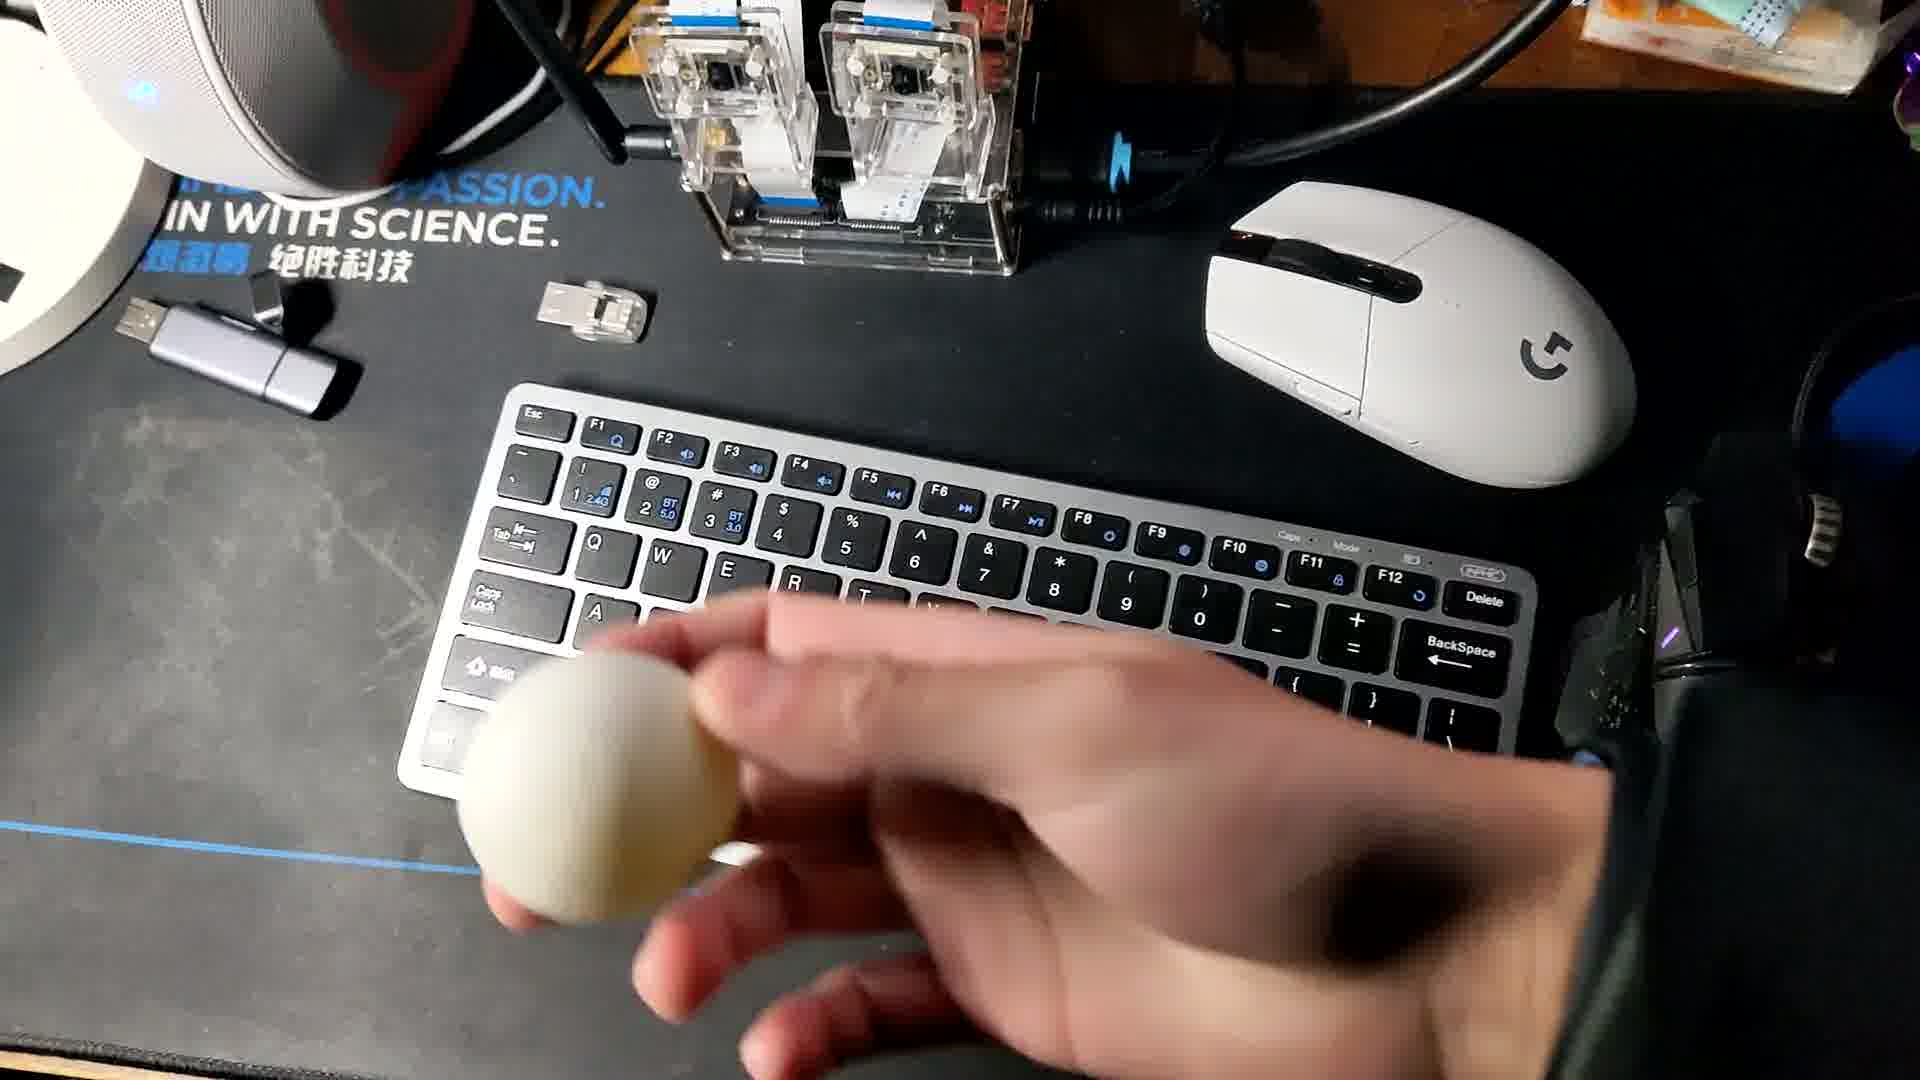Ball: (464, 659, 746, 923)
